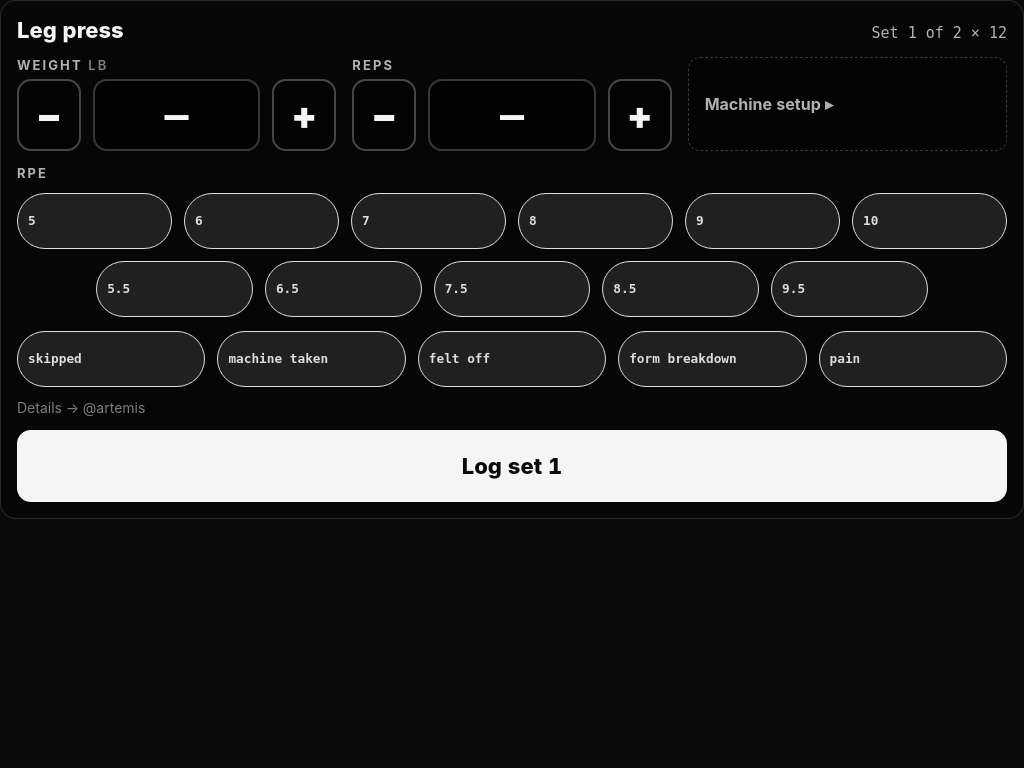
Test case: Machine setup field › is collapsed (but one tap away) otherwise
This screenshot has width=1024, height=768.
Click the button with test id "machine-setup-toggle" at (763, 104), box top-left (688, 57), bottom-right (1007, 151)
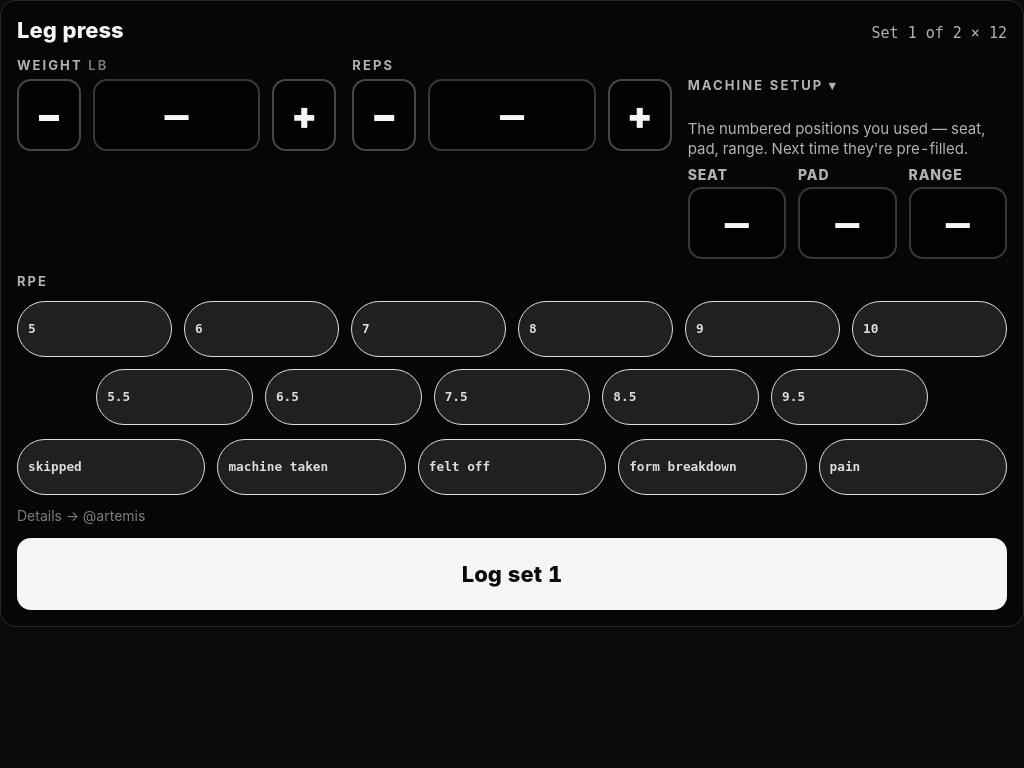
Now the element with test id "machine-setup" is shown, box top-left (688, 57), bottom-right (1007, 258)
